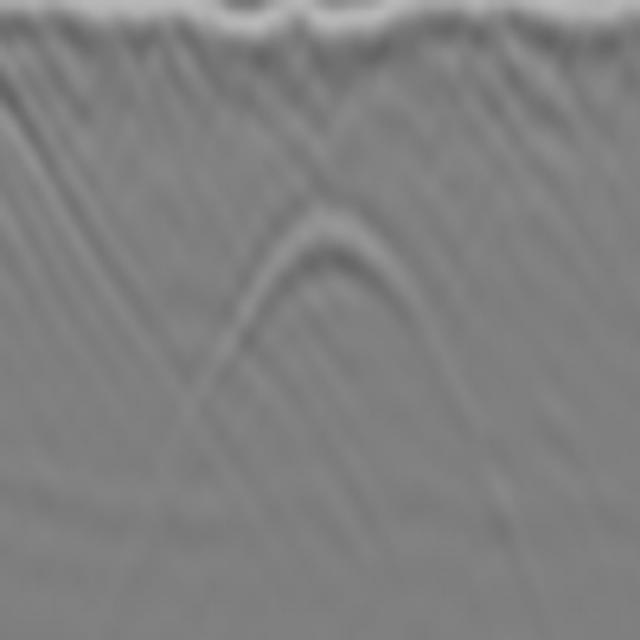hyperbola: (202, 198, 436, 409)
